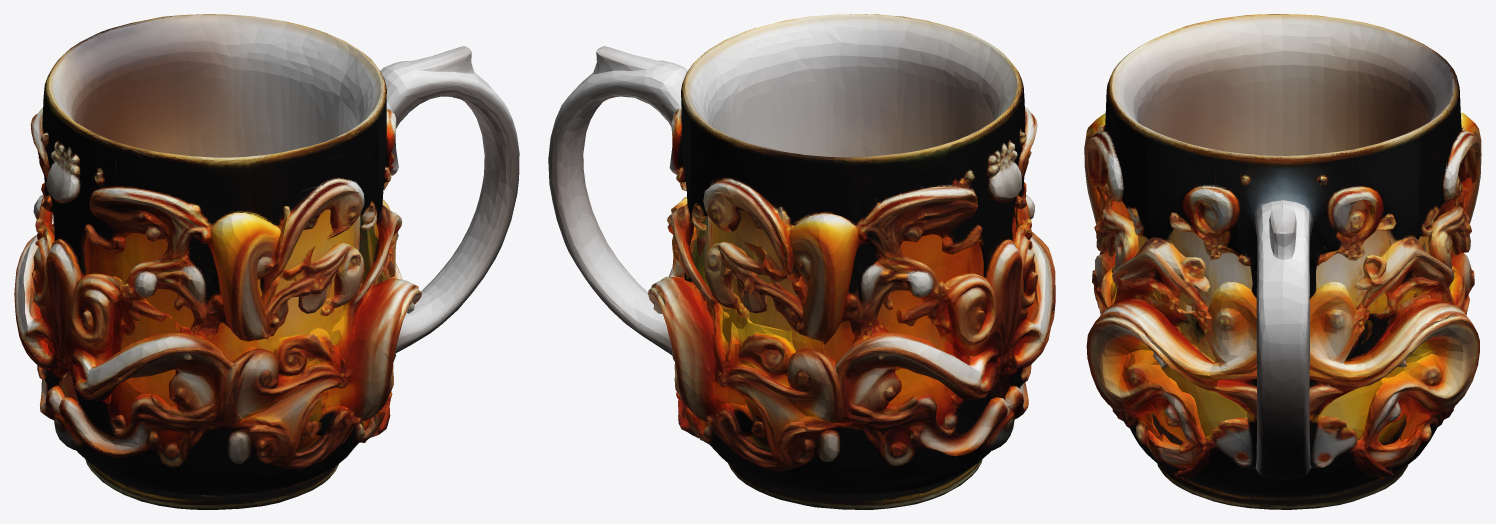
The model's file is porcelain-collectible-mug-3d.jpeg.glb.
3 renders of one model, left to right at view 1: azimuth 30°, elevation 25°; view 2: azimuth 150°, elevation 25°; view 3: azimuth 270°, elevation 25°, orthographic.
Visible parts, largest first — view 1: world; view 2: world; view 3: world.
Boxes of the visible parts, x1=… form: world: x1=14, y1=14, x2=519, y2=509; world: x1=548, y1=14, x2=1055, y2=509; world: x1=1084, y1=14, x2=1481, y2=509.
Bounding box in the file's own units: 0.9866 × 0.7645 × 0.7341.
Materials: 1 (1 with a texture image).
